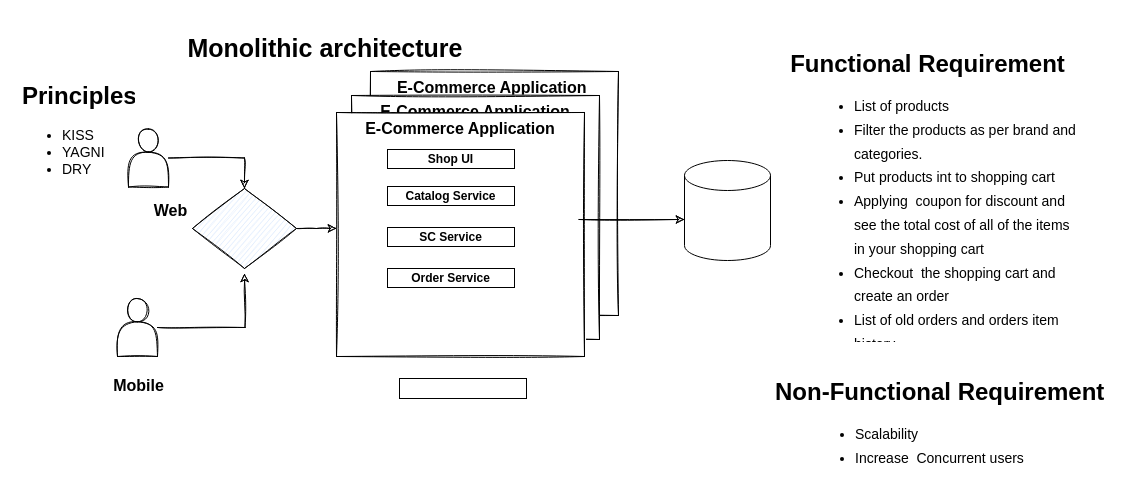
This 1137x496 diagram has some shape labels left out. Each missing label, with the centre of its shape:
"Discount Service" belongs at (462,388).
"Load Balancer" belongs at (244,228).
"RDBMS" belongs at (727,210).
